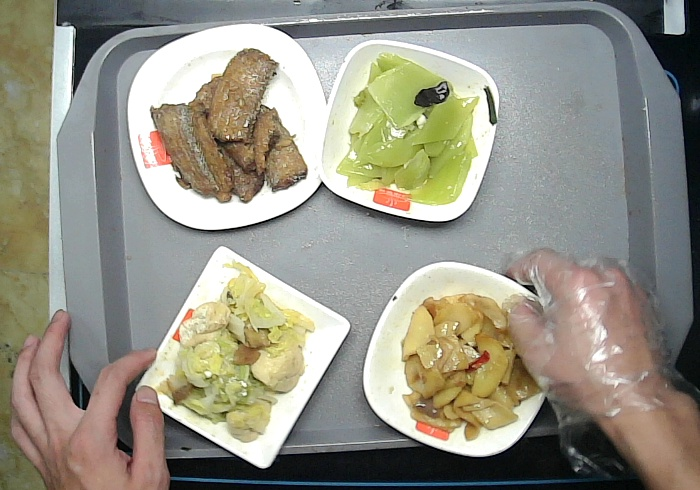SHKJ-Bai_Se_Cai_Die: (358, 259, 559, 460)
SHKJ-Bai_Se_Si_Fang_Cai_Die: (125, 22, 331, 232)
SHKJ-Bai_Se_Xiao_Fang_Die: (315, 38, 501, 225)
SHKJ-Si_Fang_Min: (132, 244, 353, 470)
